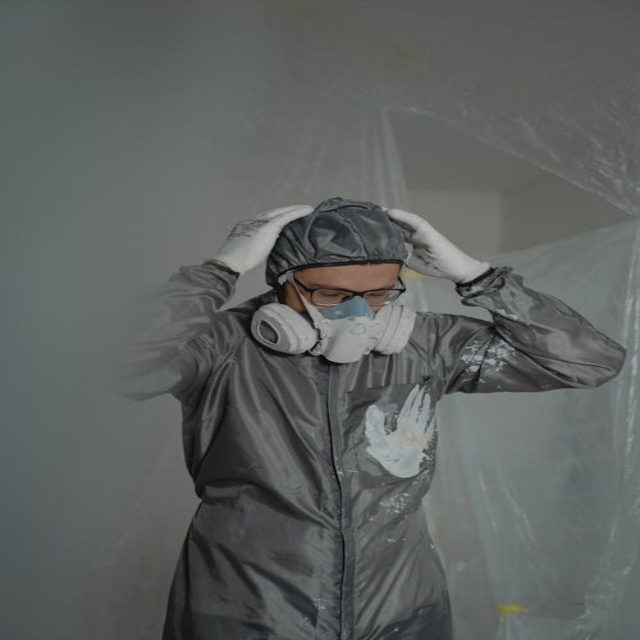Gafas: (290, 271, 406, 307)
Guantes: (384, 208, 492, 288), (209, 205, 316, 277)
Mascara: (250, 284, 415, 363)
